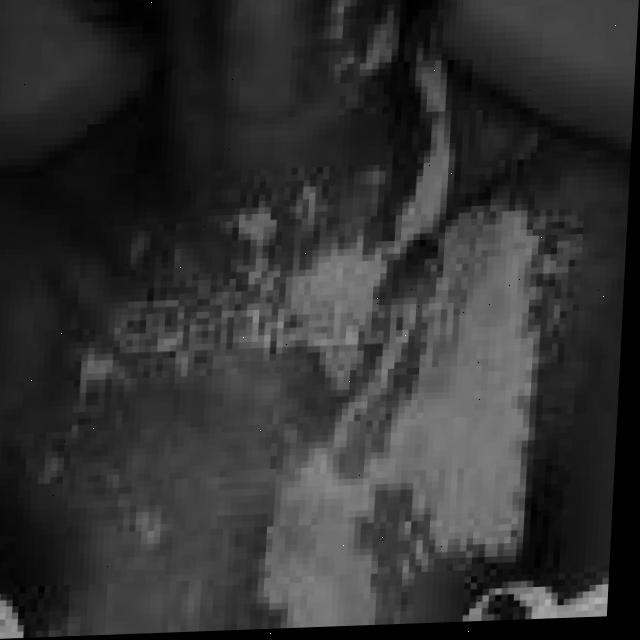Melasma: (230, 0, 572, 630)
